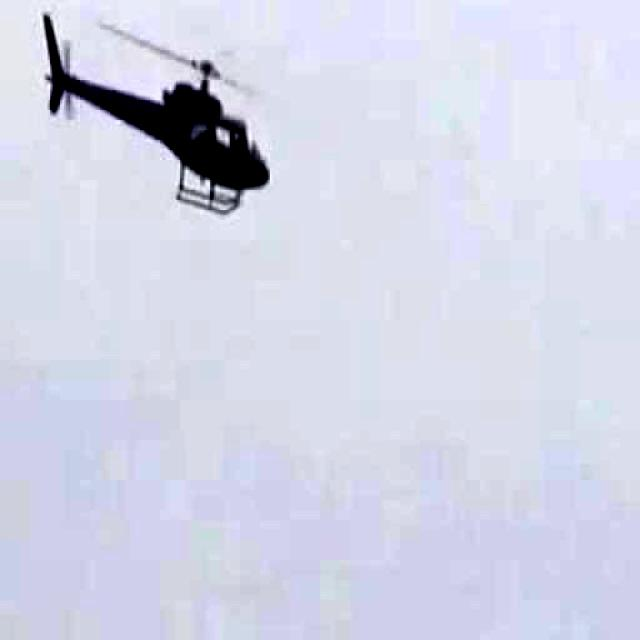drone: (25, 2, 278, 235)
